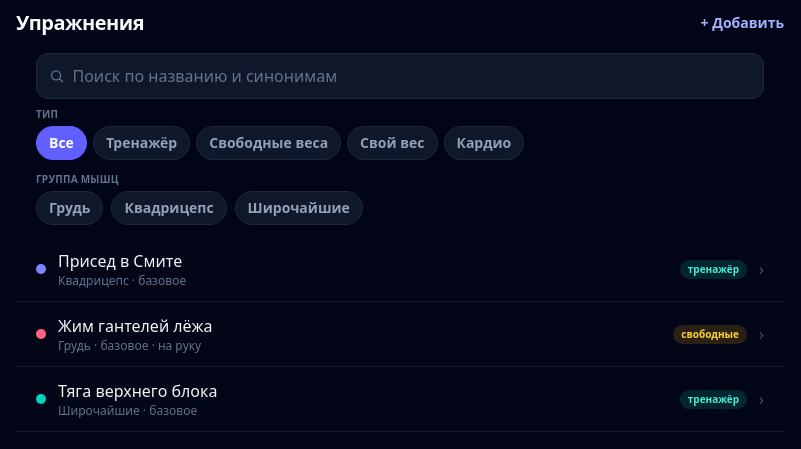
ExercisesPage › фильтрует по типу: свободные веса
Expected: the text "Присед в Смите" is shown, [58,250,182,272]
Click the button "Свободные веса": [269, 143] box [196,126,341,160]
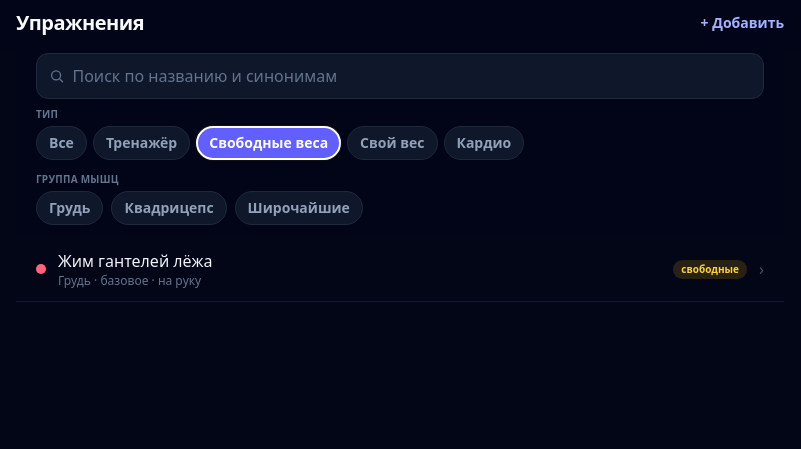
Expected: the text "Жим гантелей лёжа" is shown, [58,250,213,272]
Expected: the link "Присед в Смите" is gone
Expected: the link "Тяга верхнего блока" is gone
